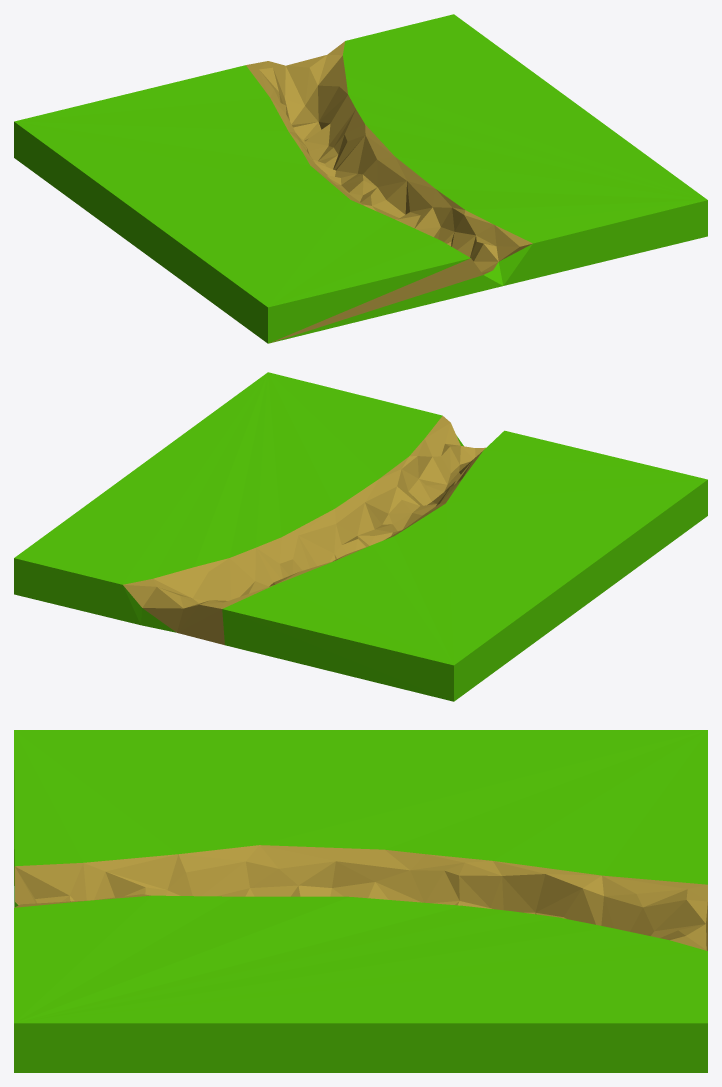
Rendered from JambFlat.fbx.
The picture shows the model from 3 angles, top to bottom: view 1: azimuth 30°, elevation 25°; view 2: azimuth 150°, elevation 25°; view 3: azimuth 270°, elevation 25°; orthographic projection. The views are drawn at different scales.
Parts seen in each view (by area): view 1: Plane; view 2: Plane; view 3: Plane.
Boxes of the visible parts, left/top/right/bottom form: Plane: left=14, top=14, right=707, bottom=343; Plane: left=14, top=372, right=707, bottom=701; Plane: left=14, top=730, right=707, bottom=1072.
Size of the model in its own units: 59220 by 6575 by 59220.
